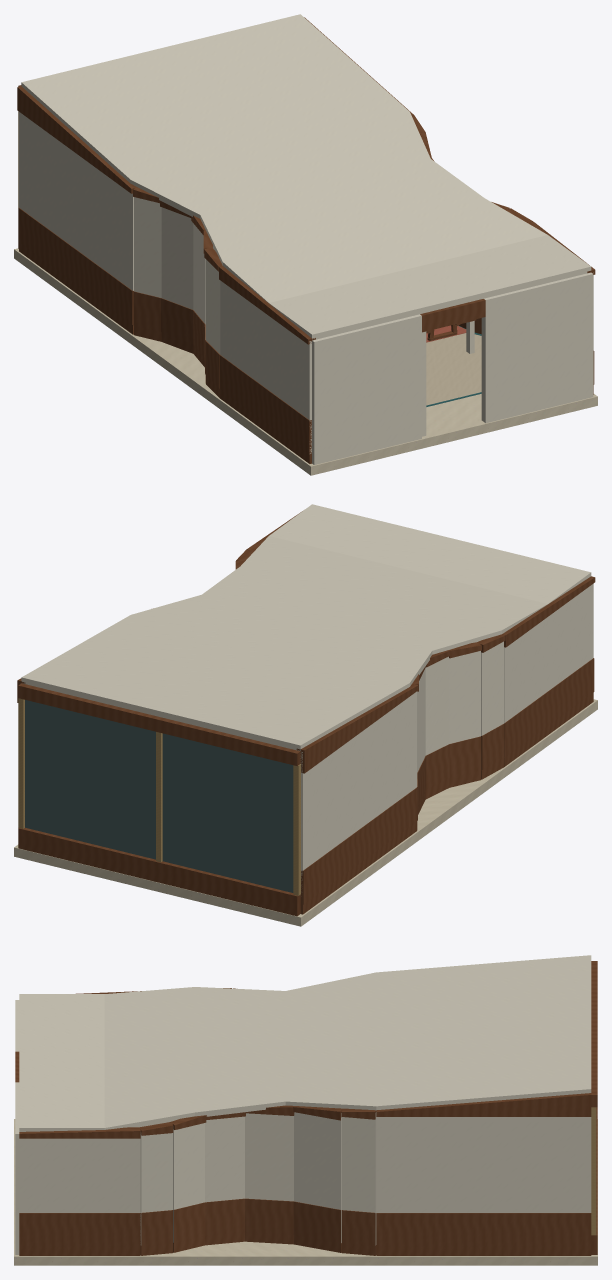
The model's file is NG_r001__standard__glimpse_parlor__R.glb.
3 renders of one model, top to bottom at view 1: azimuth 30°, elevation 25°; view 2: azimuth 150°, elevation 25°; view 3: azimuth 270°, elevation 25°, orthographic.
Visible parts, largest first — view 1: NIGHT_GARDENRoomBatch_2, NIGHT_GARDENRoomBatch_1, NIGHT_GARDENRoomBatch_0, NIGHT_GARDENRoomBatch_3; view 2: NIGHT_GARDENRoomBatch_2, NIGHT_GARDENRoomBatch_6, NIGHT_GARDENRoomBatch_1, NIGHT_GARDENRoomBatch_0, NIGHT_GARDENRoomBatch_5; view 3: NIGHT_GARDENRoomBatch_2, NIGHT_GARDENRoomBatch_1, NIGHT_GARDENRoomBatch_0, NIGHT_GARDENRoomBatch_5.
Part boxes in pixels (left/top/right/bottom): NIGHT_GARDENRoomBatch_2: left=19, top=14, right=593, bottom=464; NIGHT_GARDENRoomBatch_1: left=17, top=17, right=595, bottom=463; NIGHT_GARDENRoomBatch_0: left=14, top=248, right=597, bottom=475; NIGHT_GARDENRoomBatch_3: left=213, top=248, right=481, bottom=405; NIGHT_GARDENRoomBatch_2: left=21, top=504, right=593, bottom=885; NIGHT_GARDENRoomBatch_6: left=25, top=700, right=293, bottom=892; NIGHT_GARDENRoomBatch_1: left=17, top=511, right=595, bottom=916; NIGHT_GARDENRoomBatch_0: left=14, top=699, right=597, bottom=926; NIGHT_GARDENRoomBatch_5: left=18, top=698, right=300, bottom=895; NIGHT_GARDENRoomBatch_2: left=15, top=955, right=591, bottom=1254; NIGHT_GARDENRoomBatch_1: left=15, top=961, right=597, bottom=1255; NIGHT_GARDENRoomBatch_0: left=14, top=1119, right=597, bottom=1265; NIGHT_GARDENRoomBatch_5: left=591, top=1107, right=596, bottom=1235.
Size of the model in its own units: 7.2 by 4.26 by 12.9.
59 materials, 52 textured.
